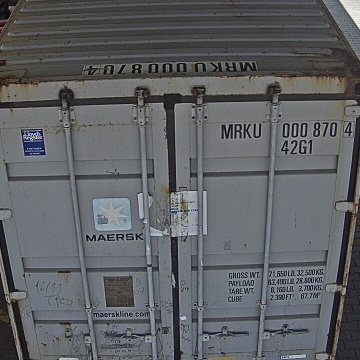serial_id: (221, 121, 353, 138)
